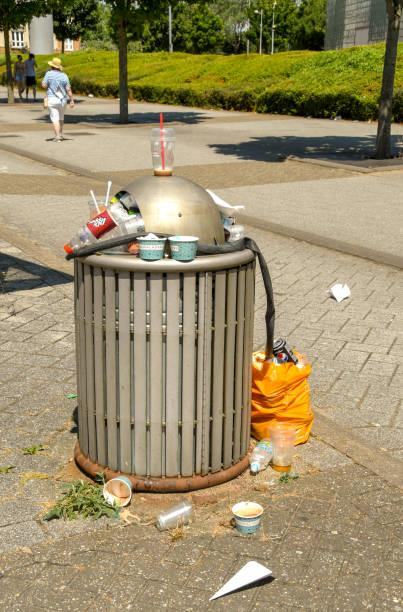trash: (242, 330, 311, 461), (56, 173, 147, 266), (201, 185, 255, 254), (205, 559, 283, 606), (146, 112, 196, 181), (148, 499, 203, 539), (223, 495, 273, 535), (159, 228, 200, 268), (98, 468, 137, 508), (126, 227, 165, 264), (270, 427, 296, 476), (322, 275, 357, 307), (249, 429, 273, 473)
trash_can_overflow: (48, 75, 311, 592)
